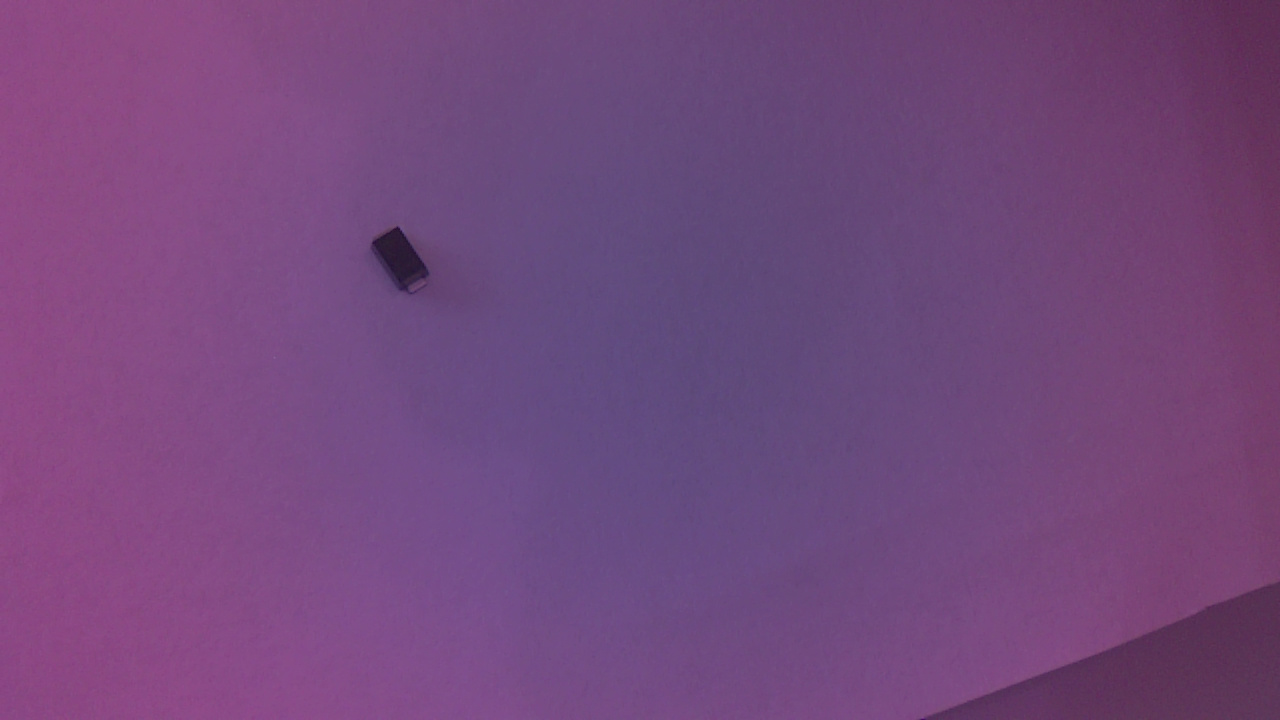Diode: (376, 222, 440, 309)
